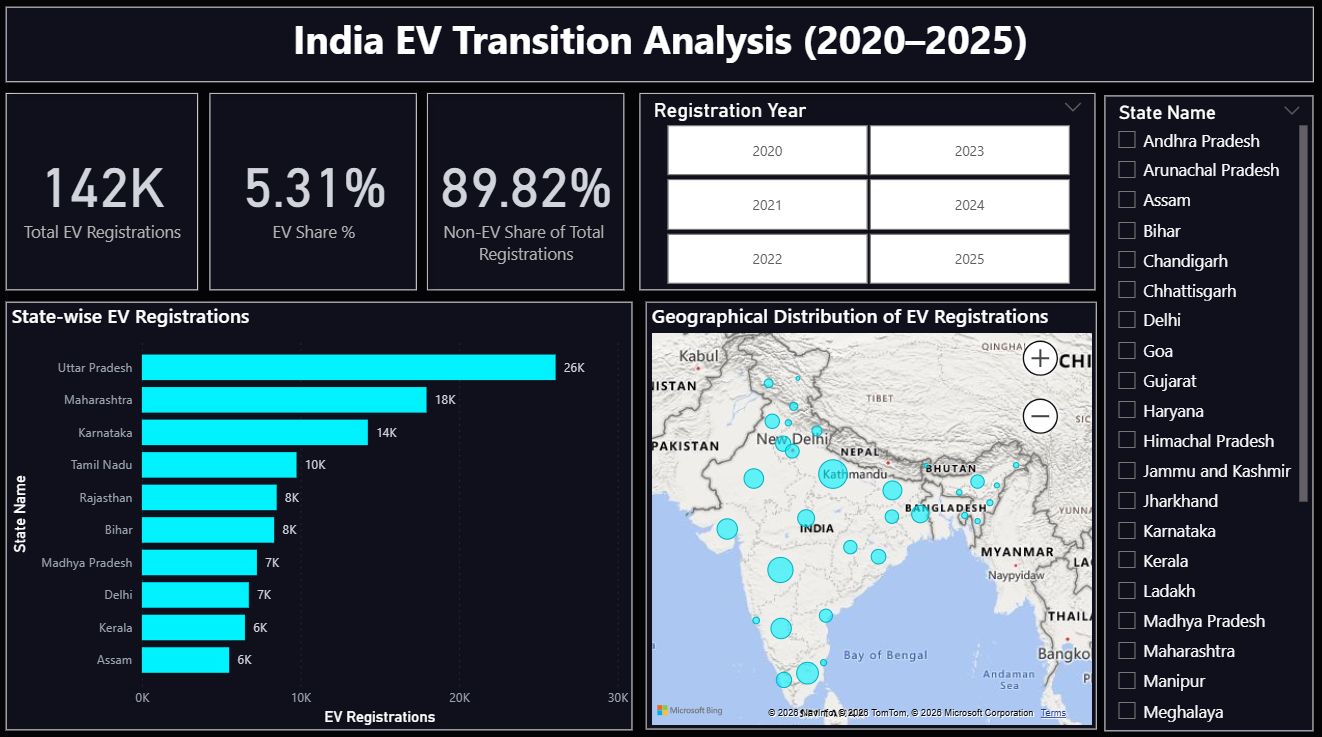

The dashboard page shown, as its layout file describes it:
{"tool":"powerbi","page":{"name":"India EV Transition Analysis","canvas":[1280,720],"ordinal":1},"visuals":[{"type":"map","title":"Geographical Distribution of EV Registrations","fields":{"Category":["vehicle_registrations_500k.stateName"],"Size":["_measures.Total Vehicles"]},"box":[625.7,293.7,435,413],"z":0},{"type":"card","fields":{"Values":["_measures.EV Vehicles (Display)"]},"box":[8.2,91.9,185.2,190.7],"z":2000},{"type":"card","fields":{"Values":["_measures.ICE Share %"]},"box":[415.5,91.8,190,190],"z":3000},{"type":"card","fields":{"Values":["_measures.EV % (Card)"]},"box":[205,91.7,200,190],"z":4000},{"type":"slicer","fields":{"Values":["vehicle_registrations_500k.registrationYear"]},"box":[620,91.8,440,190],"z":5000},{"type":"barChart","title":"State-wise EV Registrations","fields":{"Category":["vehicle_registrations_500k.stateName"],"Y":["_measures.EV Vehicles"]},"box":[8.3,293.3,605,413.3],"z":6000},{"type":"textbox","box":[8.9,8.9,1262.5,72.8],"z":7000},{"type":"slicer","fields":{"Values":["vehicle_registrations_500k.stateName"]},"box":[1069.4,93.6,202,613.4],"z":8000}]}

Visuals, with their boxes in screenshot pixels (x1, y1, x2, y2), scaled from the page's 1280x720 canvas onto the 1322x737 screenshot:
"Geographical Distribution of EV Registrations" map: 646/301/1096/723
card - _measures.EV Vehicles (Display): 8/94/200/289
card - _measures.ICE Share %: 429/94/625/288
card - _measures.EV % (Card): 212/94/418/288
slicer - vehicle_registrations_500k.registrationYear: 640/94/1095/288
"State-wise EV Registrations" barChart: 9/300/633/723
textbox: 9/9/1313/84
slicer - vehicle_registrations_500k.stateName: 1104/96/1313/724
